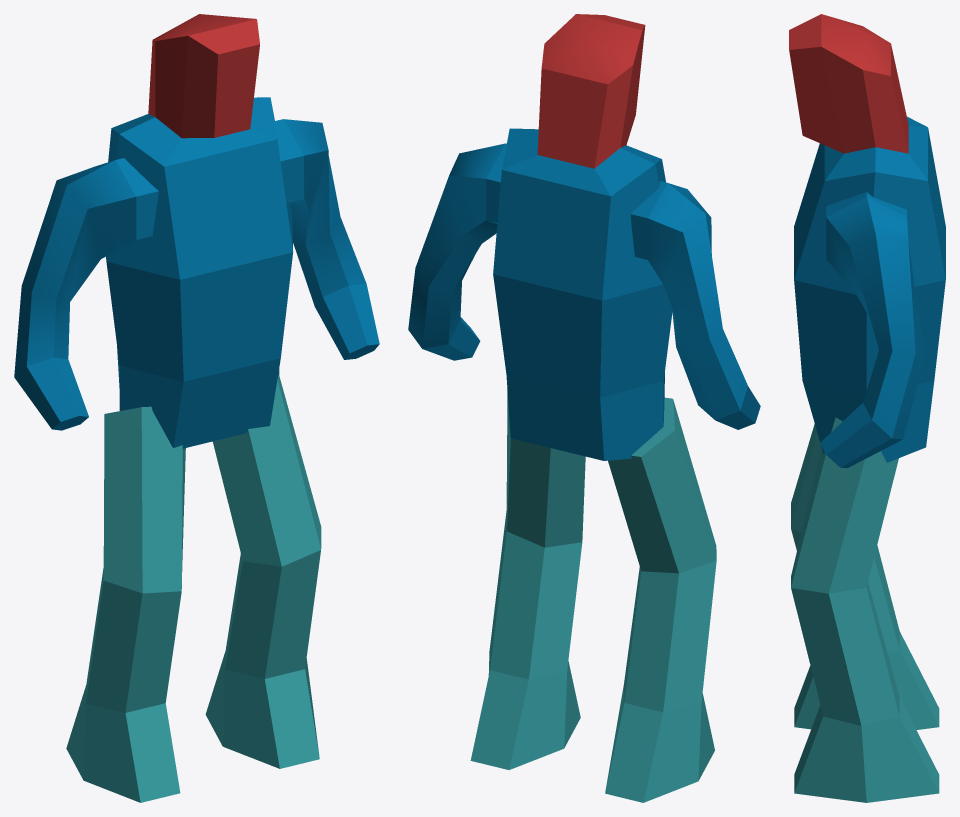
Rendered from DefinitelyAHuman.fbx.
3 views of the same model, side by side, from view 1: azimuth 30°, elevation 25°; view 2: azimuth 150°, elevation 25°; view 3: azimuth 270°, elevation 25° (orthographic). The views are drawn at different scales.
Parts seen in each view (by area): view 1: body, RightLeg, LeftLeg, RightArm, LeftArm, head; view 2: body, RightLeg, LeftLeg, RightArm, head, LeftArm; view 3: LeftLeg, body, LeftArm, head, RightLeg.
Boxes of the visible parts, x1,y1,x2,y2 form: body: [106, 97, 293, 448]; RightLeg: [66, 406, 185, 802]; LeftLeg: [205, 375, 321, 768]; RightArm: [14, 158, 158, 430]; LeftArm: [274, 119, 379, 359]; head: [148, 14, 259, 138]; body: [493, 128, 672, 460]; RightLeg: [605, 397, 716, 802]; LeftLeg: [470, 390, 585, 769]; RightArm: [630, 181, 760, 429]; head: [537, 14, 645, 168]; LeftArm: [408, 143, 506, 360]; LeftLeg: [791, 417, 939, 802]; body: [794, 116, 945, 462]; LeftArm: [820, 192, 925, 468]; head: [789, 14, 908, 153]; RightLeg: [791, 424, 939, 729].
Bounding box in the file's own units: 1.89 × 3.88 × 0.7624.
